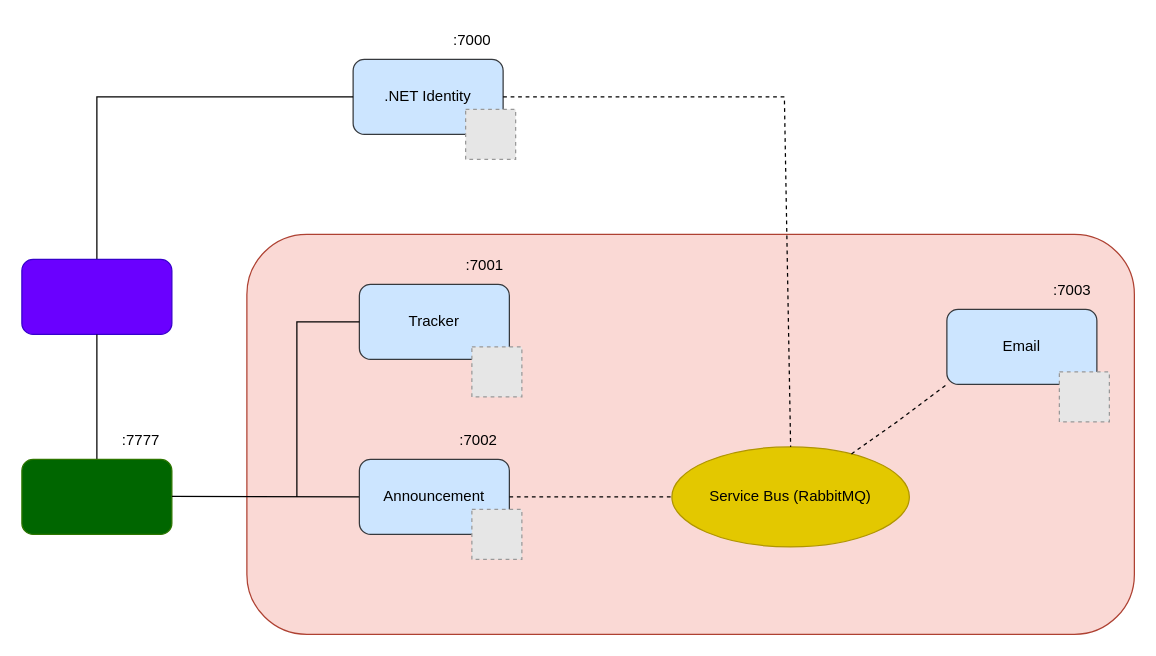
Some shapes in this 1156 by 656 pixel diagram are drawn without their labels. Grey dashed boxes stand in for pictures. Each missing label, with the centre of its shape:
"MVC Application" goes at point (96, 296).
"Ocelot Gateway" goes at point (96, 496).
